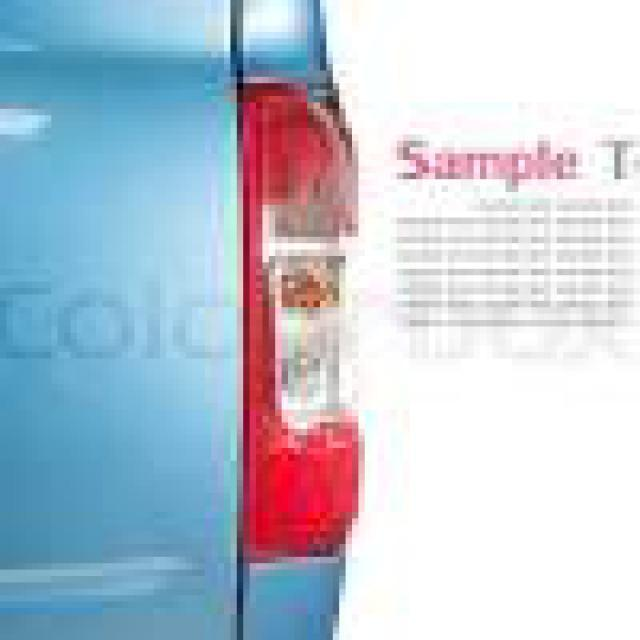Taillight-Damage: (205, 58, 384, 570)
